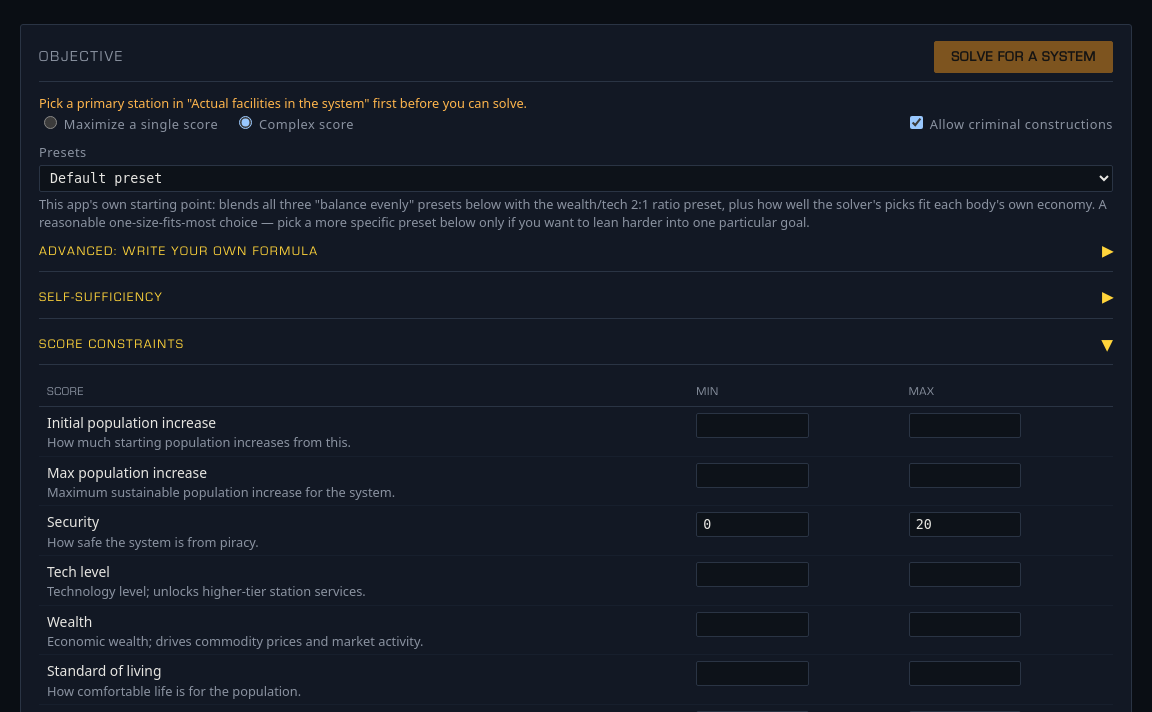
Test: ObjectivePanel's foldable sub-sections › folding Score constraints hides its table without affecting Economy preferences' own (collapsed) state
Click the button "Score constraints ▾" at (112, 344), box [39,333,1113,365]
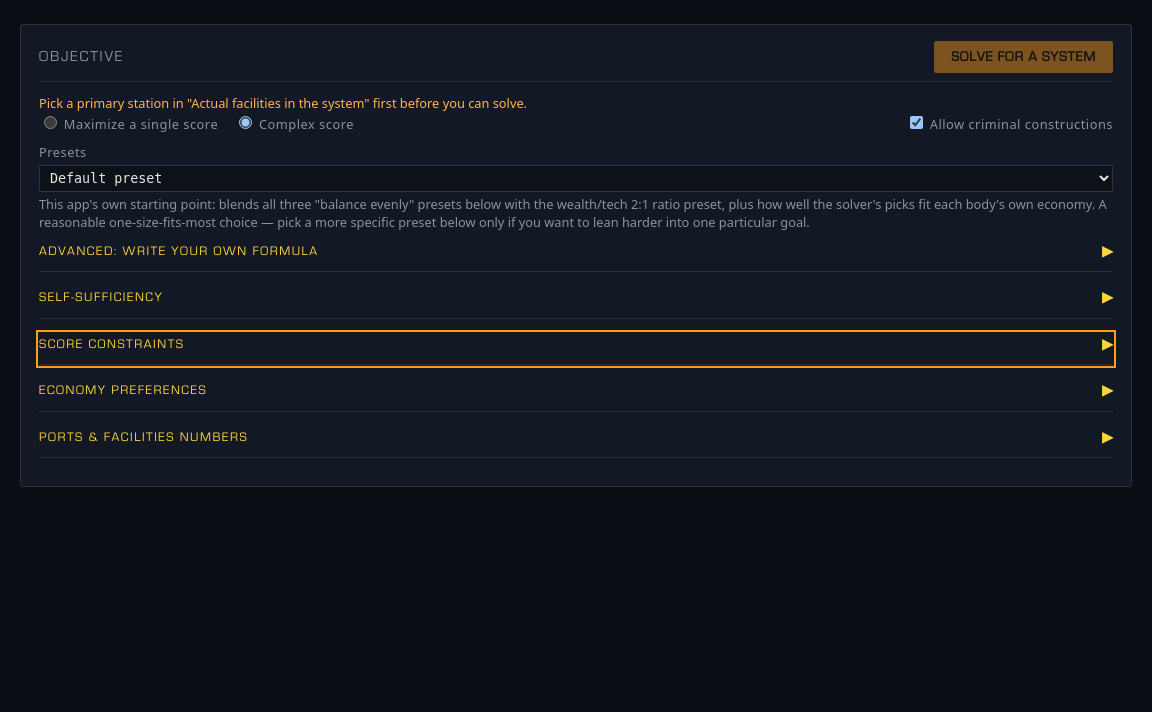
Expected: the button "Score constraints ▾" is collapsed, [39,333,1113,365]
